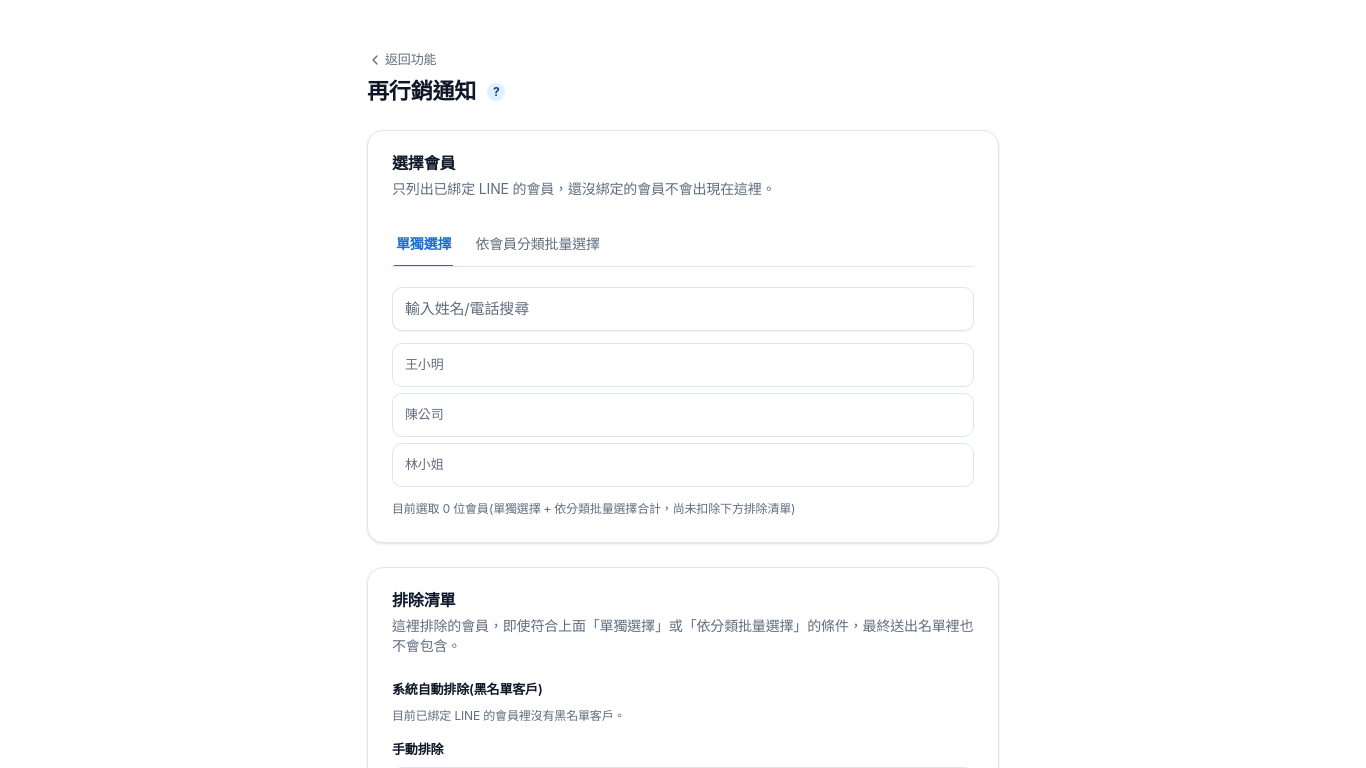
Test case: C5-P01 再行銷通知頁 › 算不出則數 ⇒ 說明 + 仍可發送;名單不顯示「可收到」
Click the button "王小明" at (424, 364), box [392,342,974,386]
(page scrolled)
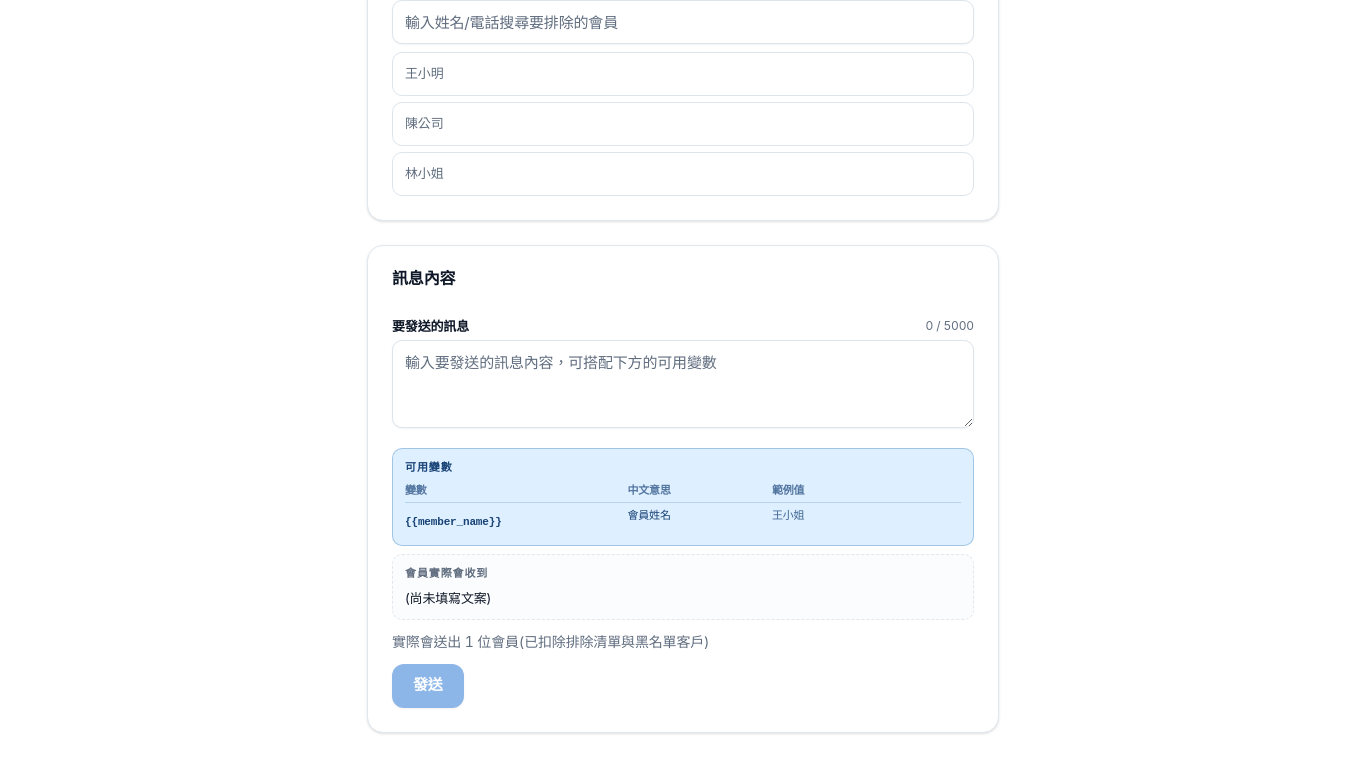
Type "週年慶" into the text box labelled "要發送的訊息" at (683, 384), box [392,340,974,428]
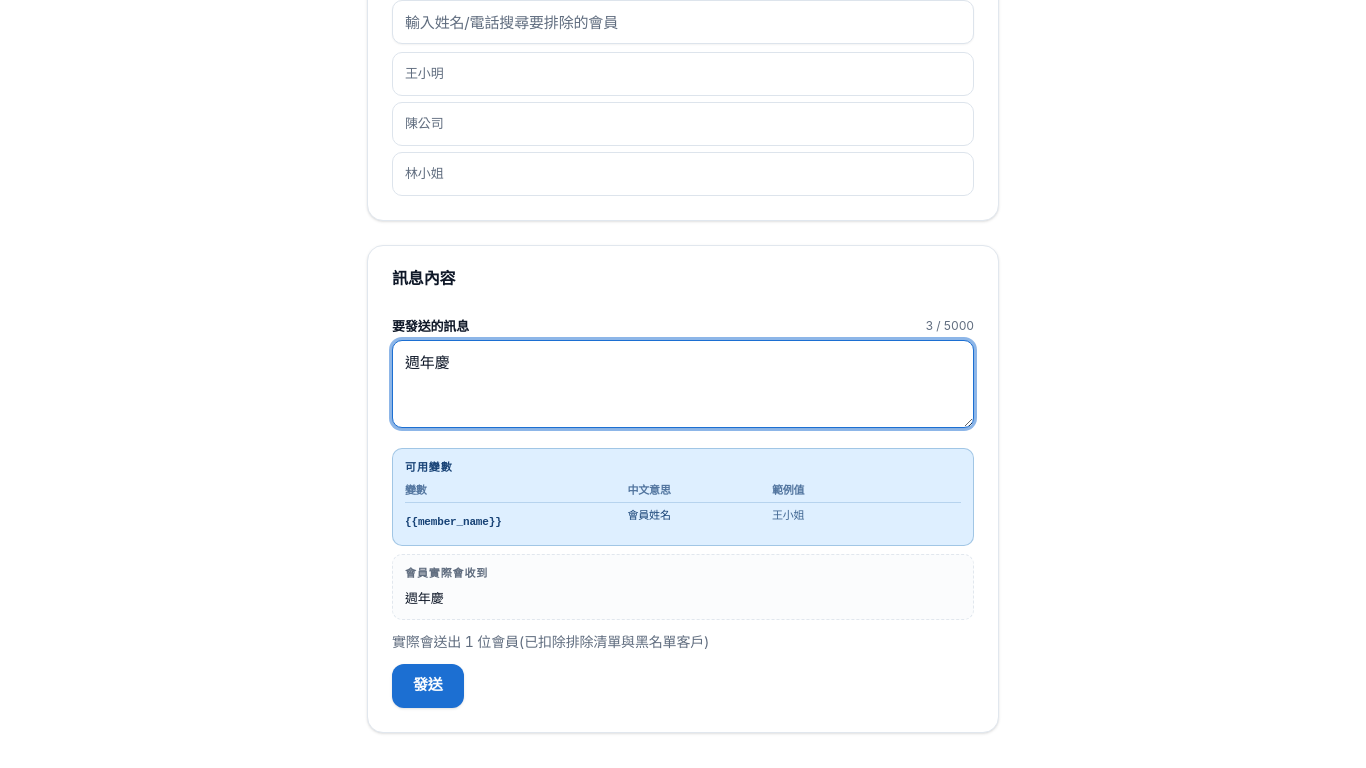
Click the button "發送" at (428, 686), box [392,664,464,708]
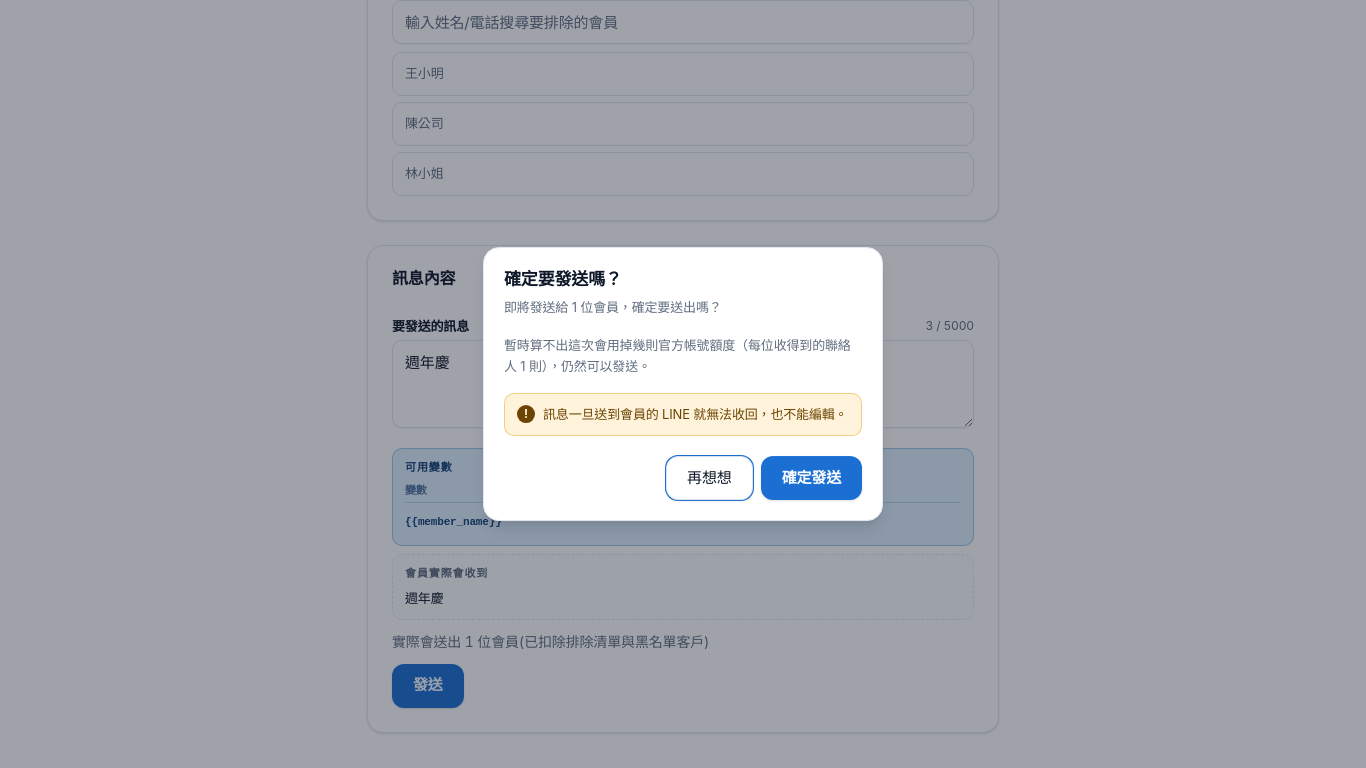
Result: the dialog with test id "line-marketing-confirm" shows "暫時算不出這次會用掉幾則官方帳號額度" at [504,337,851,374]
Result: the text with test id "line-marketing-confirm-text" reads "即將發送給 1 位會員，確定要送出嗎？" at [504,299,722,315]
Result: the button with test id "line-marketing-confirm-send" is enabled at [761,456,862,500]
